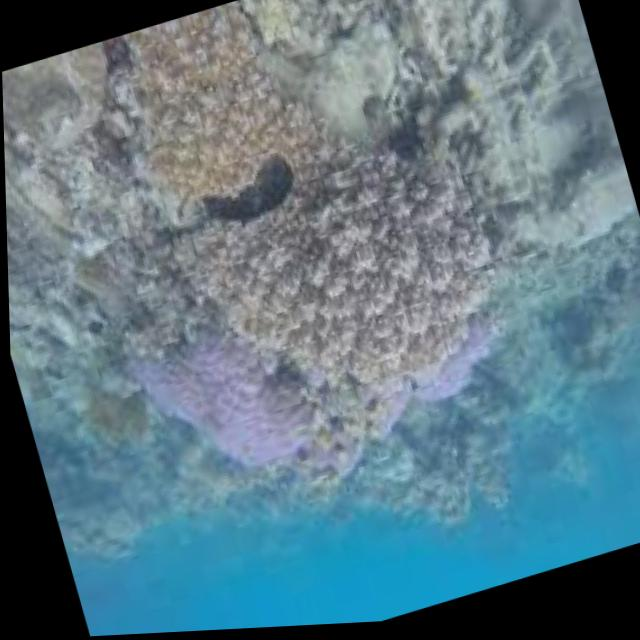Dead Coral: (61, 0, 326, 239)
